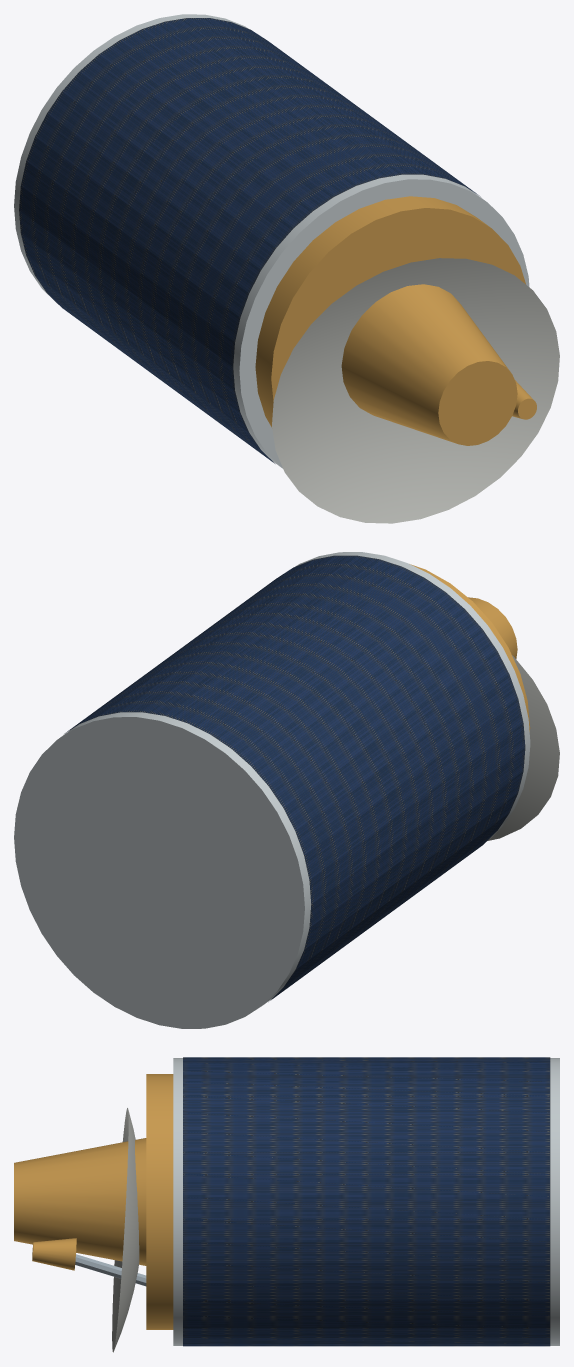
File: ref-cs-3-19508.glb
The picture shows the model from 3 angles, top to bottom: view 1: azimuth 30°, elevation 25°; view 2: azimuth 150°, elevation 25°; view 3: azimuth 270°, elevation 25°; orthographic projection. The views are drawn at different scales.
Visible parts, largest first — view 1: Body-mounted solar cells, Deck-mounted reflector, Axial antenna horn, Despun equipment deck, Solar drum core; view 2: Body-mounted solar cells, Solar drum core, Deck-mounted reflector, Axial antenna horn, Despun equipment deck; view 3: Body-mounted solar cells, Axial antenna horn, Despun equipment deck, Solar drum core, Deck-mounted reflector, Feed horn, Offset feed boom.
Boxes of the visible parts, x1=… form: Body-mounted solar cells: x1=19, y1=18, x2=480, y2=463; Deck-mounted reflector: x1=272, y1=258, x2=559, y2=523; Axial antenna horn: x1=341, y1=284, x2=517, y2=445; Despun equipment deck: x1=255, y1=196, x2=525, y2=427; Solar drum core: x1=14, y1=14, x2=529, y2=468; Body-mounted solar cells: x1=64, y1=555, x2=525, y2=1000; Solar drum core: x1=14, y1=552, x2=530, y2=1028; Deck-mounted reflector: x1=488, y1=655, x2=559, y2=840; Axial antenna horn: x1=468, y1=597, x2=517, y2=658; Despun equipment deck: x1=410, y1=564, x2=530, y2=731; Body-mounted solar cells: x1=183, y1=1057, x2=550, y2=1346; Axial antenna horn: x1=14, y1=1138, x2=146, y2=1265; Despun equipment deck: x1=146, y1=1074, x2=173, y2=1329; Solar drum core: x1=173, y1=1058, x2=559, y2=1345; Deck-mounted reflector: x1=112, y1=1108, x2=139, y2=1352; Feed horn: x1=32, y1=1238, x2=76, y2=1270; Offset feed boom: x1=75, y1=1254, x2=146, y2=1286.
Bounding box in the file's own units: 2.21 × 2.24 × 4.17.
Materials: 5 (1 with a texture image).
